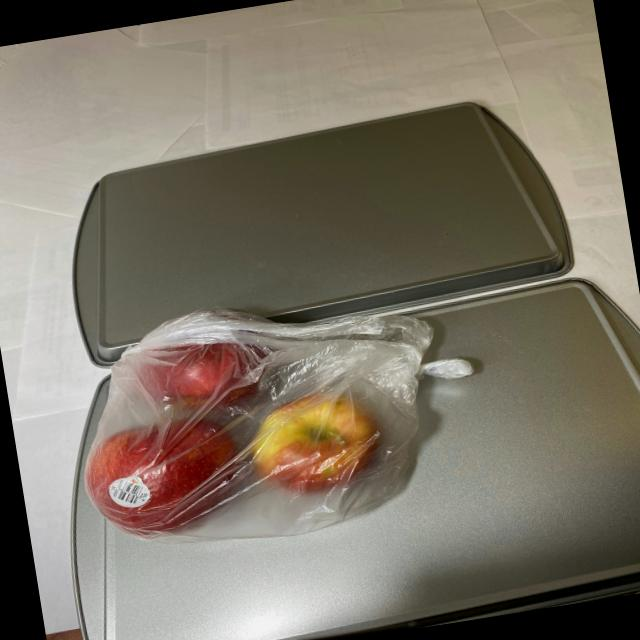apple: (53, 305, 400, 545)
